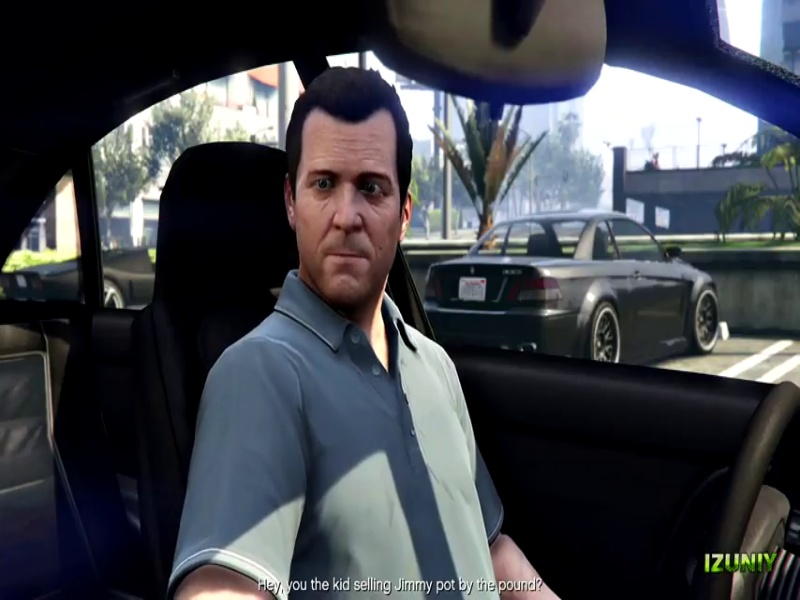human: (148, 65, 522, 596)
